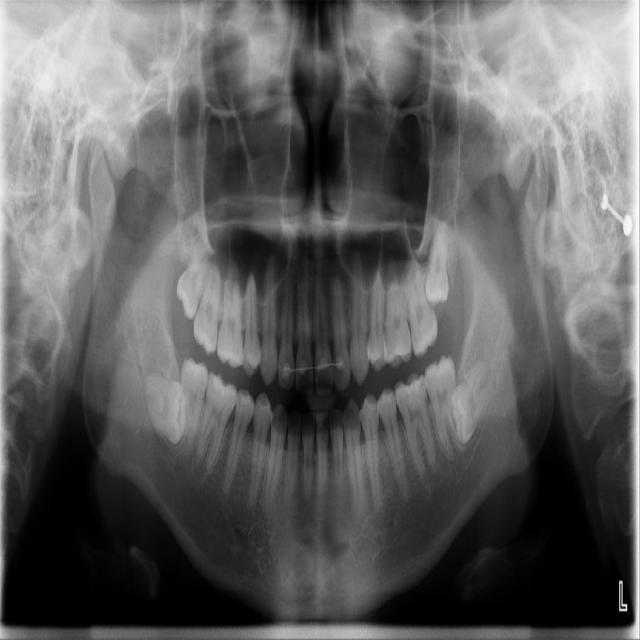3M ESPE Implant: (169, 239, 214, 324)
73: (622, 619, 628, 625)
BioHorizons Implant: (399, 248, 442, 360)
BioLife Implant: (423, 221, 455, 309)
Biomet 3i Implant: (429, 355, 508, 448)
Blue Sky Bio Implant: (421, 354, 466, 463)
Caries: (191, 257, 224, 357)
Implant: (177, 356, 209, 451)
Keystone Dental Implant: (143, 369, 192, 448)
